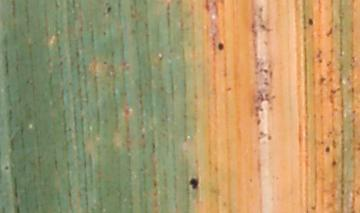tarspot: (189, 178, 199, 190), (307, 17, 314, 26), (324, 145, 331, 154), (3, 164, 10, 171), (218, 42, 224, 50), (331, 159, 337, 167), (106, 7, 112, 13)
